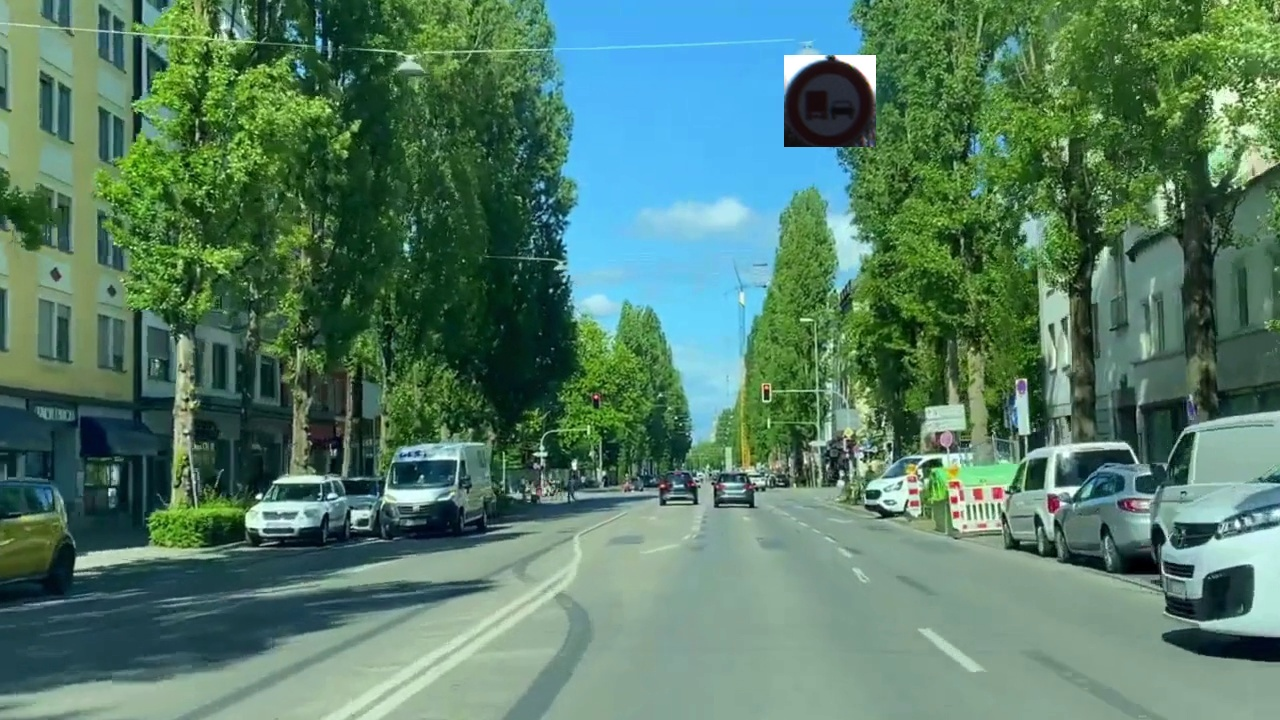No pass >3.5t: (784, 55, 876, 147)
